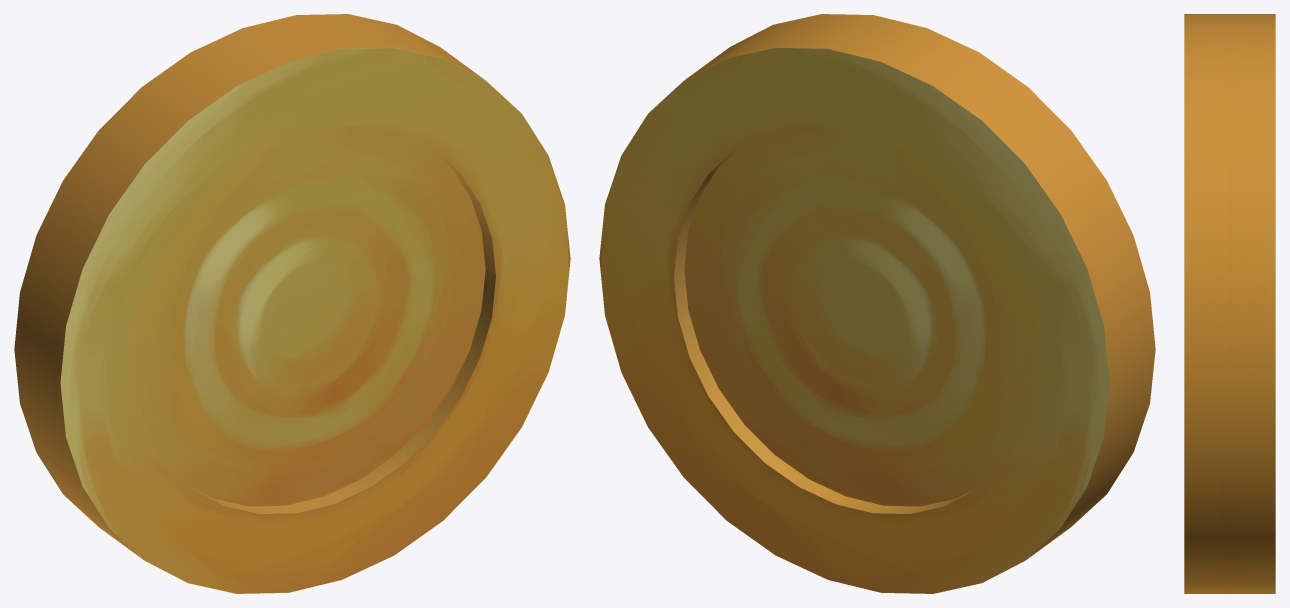
File: Coin_Mesh.fbx
3 renders of one model, left to right at view 1: azimuth 30°, elevation 25°; view 2: azimuth 150°, elevation 25°; view 3: azimuth 270°, elevation 25°, orthographic.
Parts seen in each view (by area): view 1: Coin; view 2: Coin; view 3: Coin.
Boxes of the visible parts, x1=… form: Coin: x1=14, y1=14, x2=570, y2=593; Coin: x1=599, y1=14, x2=1155, y2=593; Coin: x1=1184, y1=14, x2=1275, y2=593.
Bounding box in the file's own units: 60.21 × 59.88 × 9.42.
